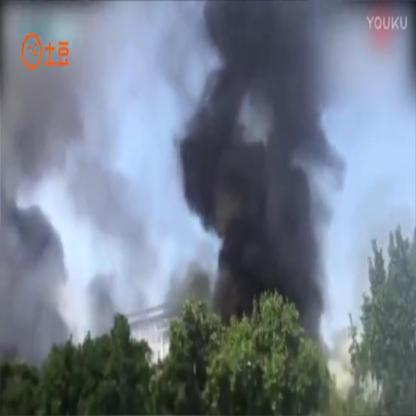smoke: (178, 57, 341, 238), (3, 73, 66, 358), (213, 238, 329, 310), (204, 6, 329, 54)
